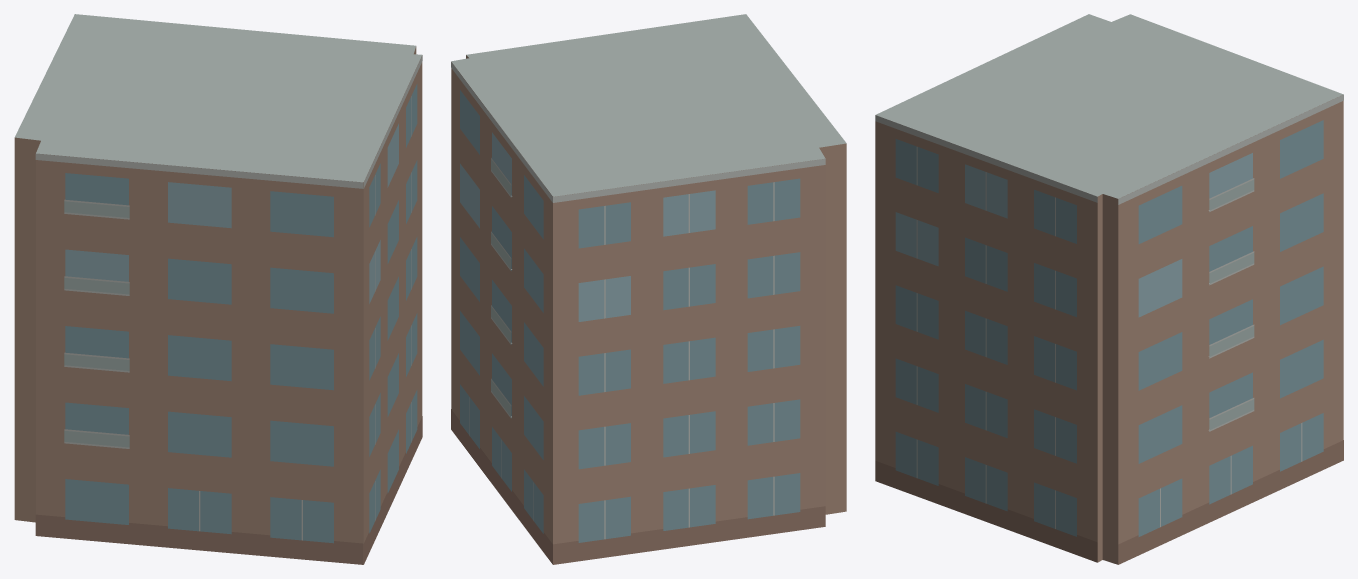
Rendered from survey-upis-33005854.glb.
3 views of the same model, side by side, from view 1: azimuth 30°, elevation 25°; view 2: azimuth 150°, elevation 25°; view 3: azimuth 270°, elevation 25° (orthographic). The views are drawn at different scales.
Visible parts, largest first — view 1: survey-upis-33005854.tmp; view 2: survey-upis-33005854.tmp; view 3: survey-upis-33005854.tmp.
Part boxes in pixels (x1,y1,x2,y2): survey-upis-33005854.tmp: (14,14,422,564); survey-upis-33005854.tmp: (451,14,846,564); survey-upis-33005854.tmp: (875,14,1343,564).
Bounding box in the file's own units: 15.55 × 14.35 × 16.65.
